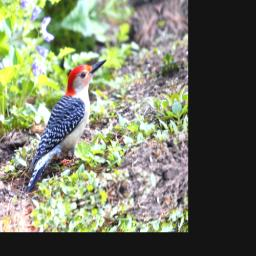Woodpecker: (5, 56, 125, 195)
